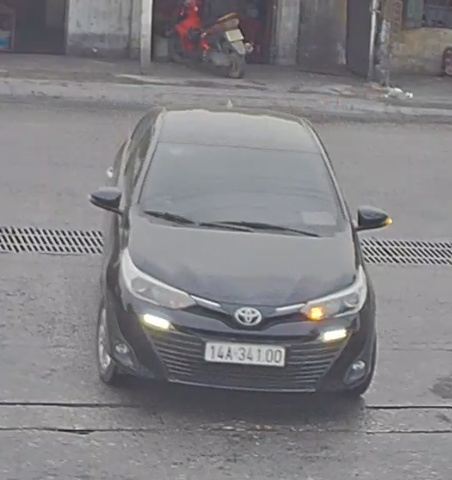vehicle plate: (197, 336, 286, 366)
